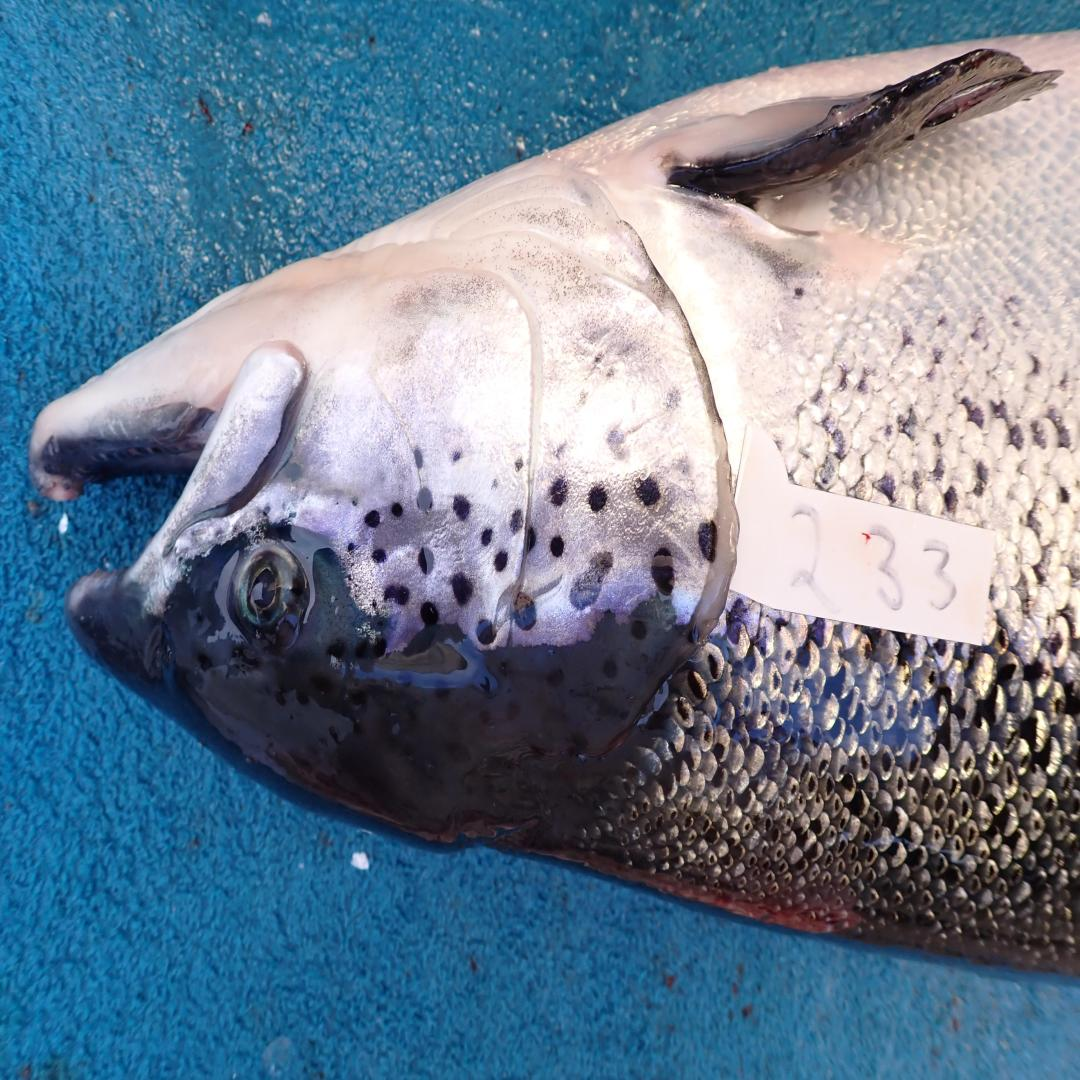spot: (570, 551, 614, 610), (650, 548, 675, 596), (513, 593, 536, 630), (698, 520, 717, 562), (635, 475, 660, 506), (605, 428, 626, 461), (451, 574, 472, 605), (548, 478, 567, 506), (384, 585, 409, 605), (418, 546, 435, 574), (477, 619, 496, 644), (589, 487, 608, 512), (420, 602, 439, 624), (454, 495, 470, 520), (664, 388, 681, 411), (508, 509, 523, 534), (418, 487, 432, 512), (411, 444, 424, 470), (677, 456, 692, 478), (551, 534, 565, 557), (365, 509, 380, 529), (494, 551, 508, 571), (513, 456, 527, 475), (553, 439, 567, 458), (527, 526, 536, 551), (371, 548, 386, 562), (451, 447, 462, 464), (578, 391, 589, 408), (481, 529, 491, 546), (392, 503, 403, 518), (491, 475, 500, 489), (594, 353, 604, 365), (346, 543, 356, 554), (604, 368, 615, 378), (352, 498, 359, 506)
